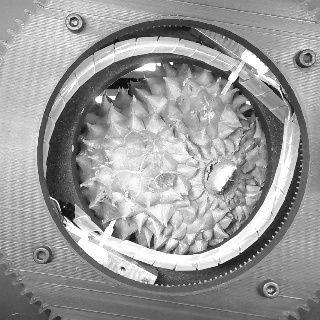base: (201, 156, 243, 200)
end: (213, 164, 238, 192)
